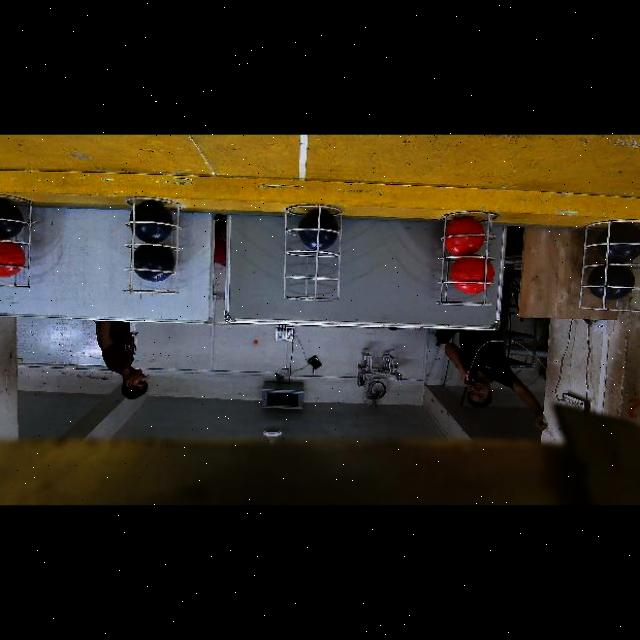P: (588, 262, 635, 300), (598, 223, 640, 263), (130, 202, 171, 242), (299, 210, 338, 249), (134, 244, 175, 281), (0, 197, 22, 236)
R: (444, 216, 486, 255), (453, 260, 491, 293), (0, 236, 27, 278)
S: (120, 185, 188, 295), (442, 201, 501, 309), (572, 219, 640, 309), (301, 200, 345, 310), (0, 199, 36, 299)
